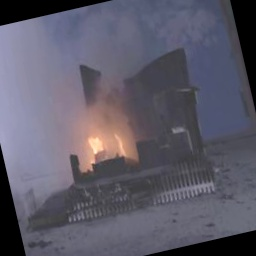fire: (63, 94, 136, 176)
smoke: (0, 0, 171, 142)
